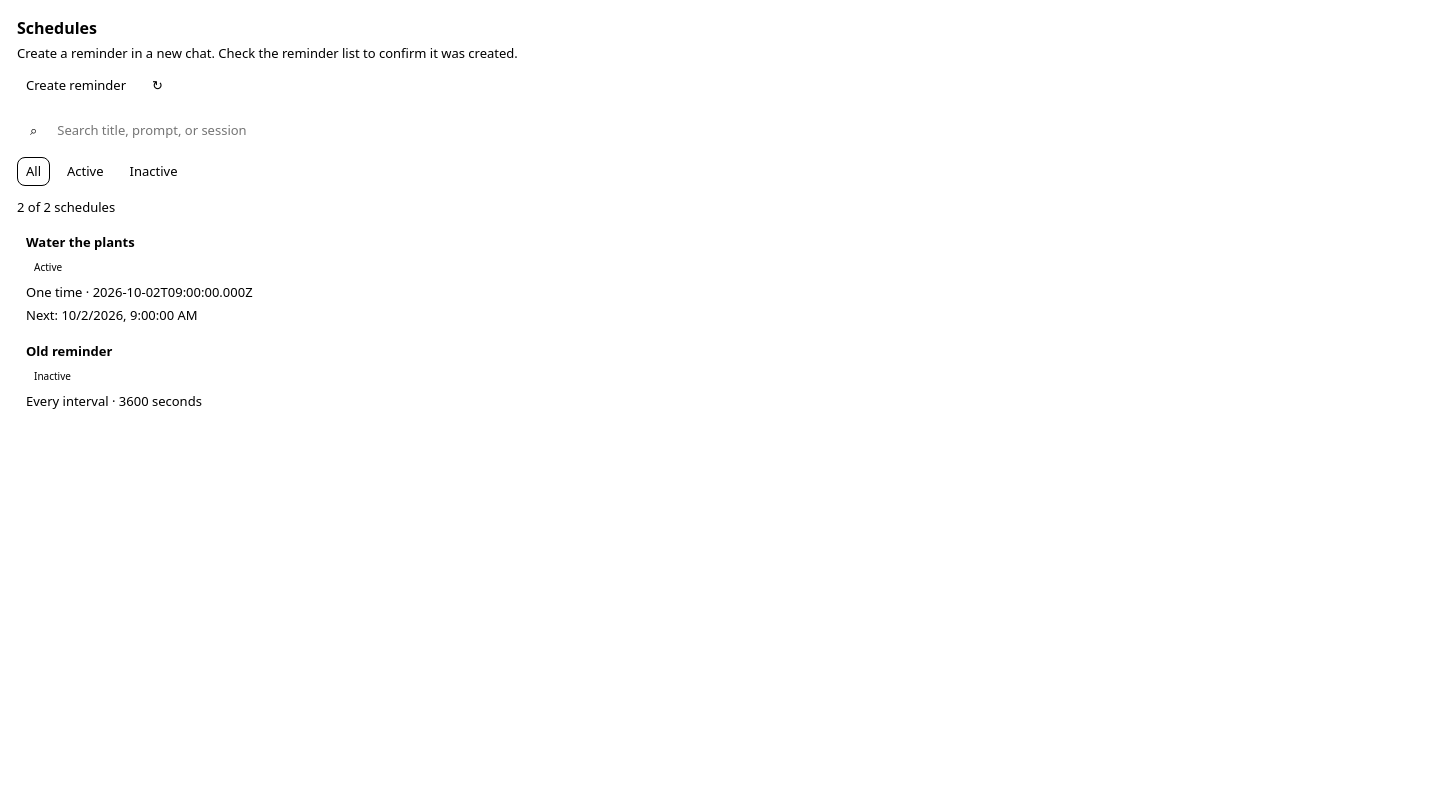
it: SchedulePanel › requires confirmation before deleting through the Host and refreshes the catalog
Click the button "Water the plants". click: (80, 242)
box: [17,228,567,329]
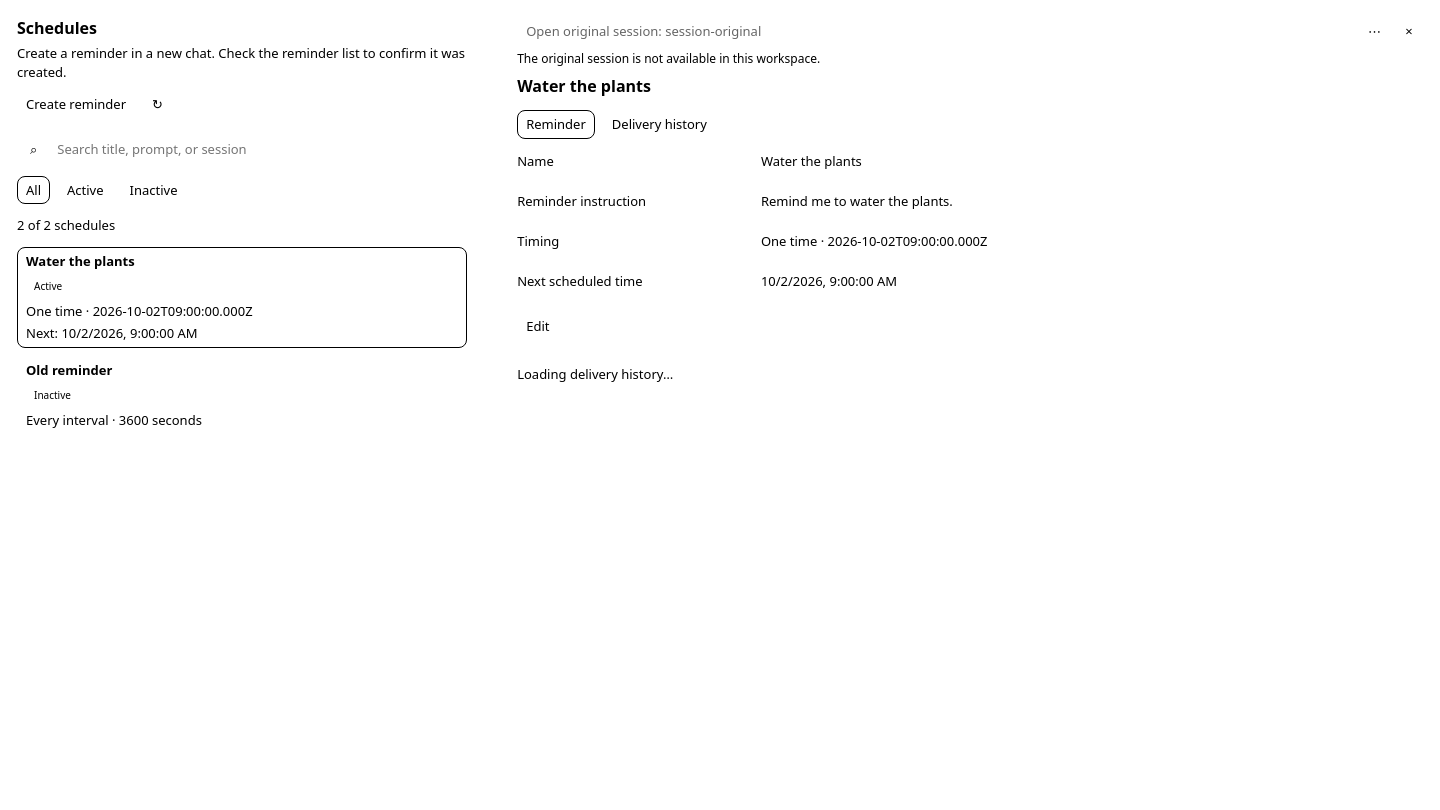
Click the button named "More task actions". click: (1373, 31)
box: [1359,17,1387,46]
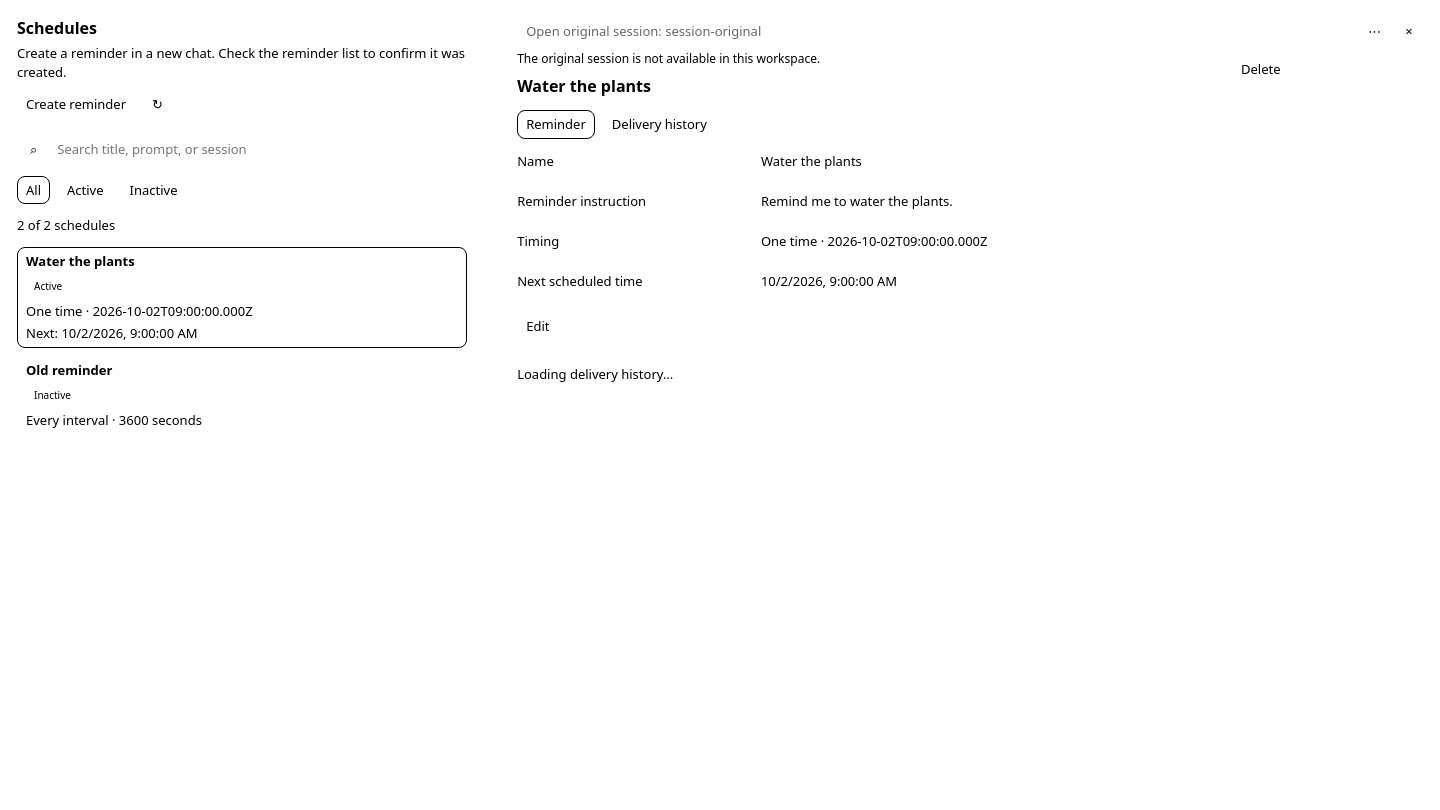
Click the button "Delete". click: (1307, 69)
box: [1232,55,1382,84]
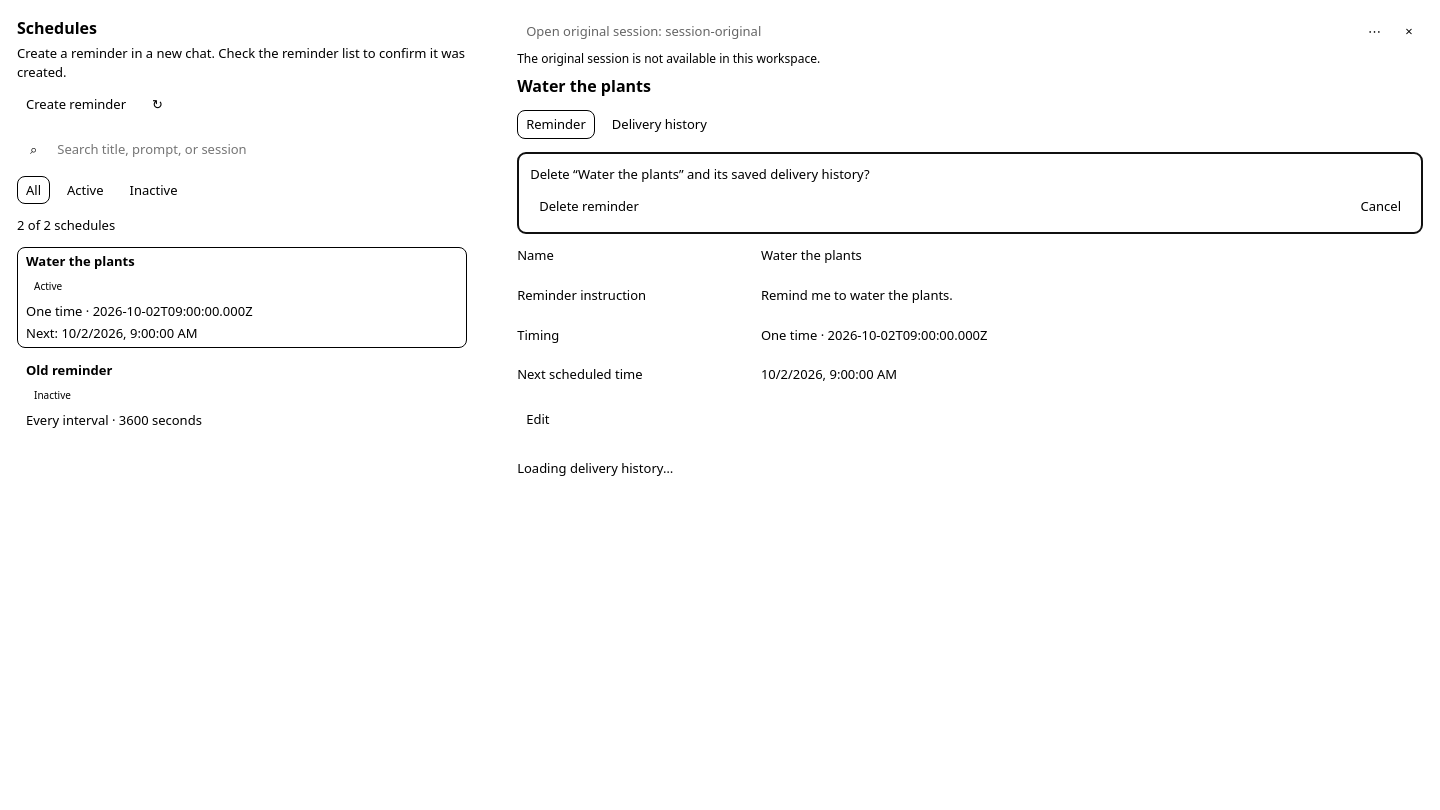
Click the button "Delete reminder". click: (589, 206)
box: [530,192,648,221]
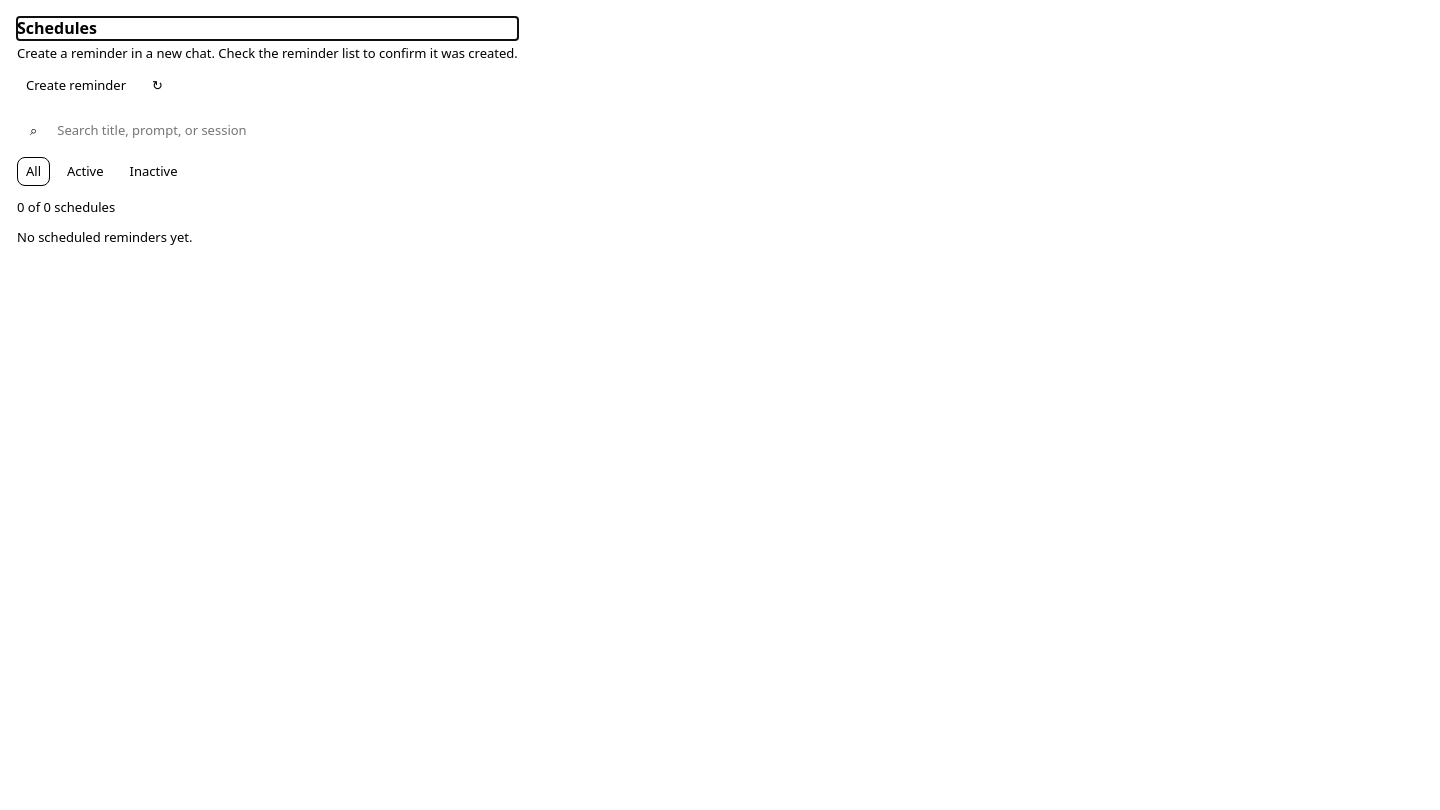
expect the text "No scheduled reminders yet." is shown: met, box [17,228,192,246]
